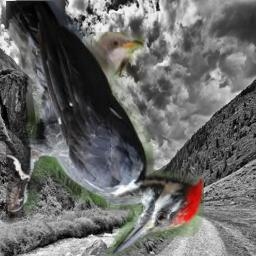Cuckoo: (26, 32, 143, 167)
Woodpecker: (6, 1, 204, 256)
